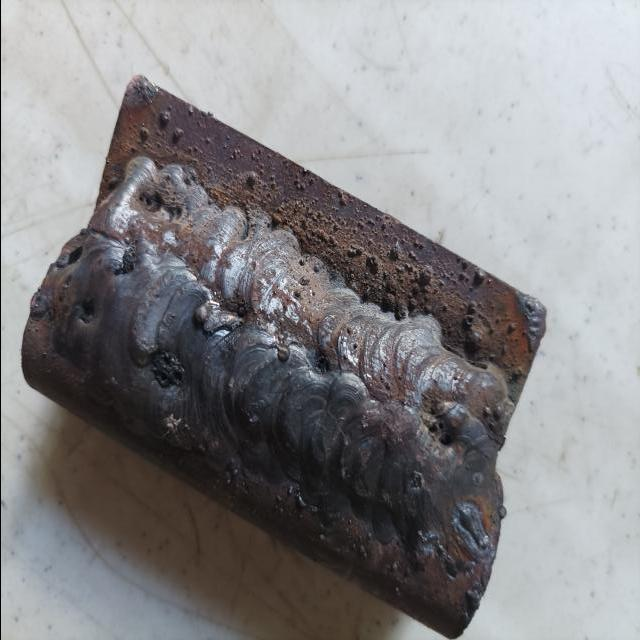defect: (146, 341, 188, 390), (72, 286, 102, 331), (423, 415, 454, 450), (112, 239, 139, 279), (404, 471, 425, 500), (315, 350, 331, 374)
